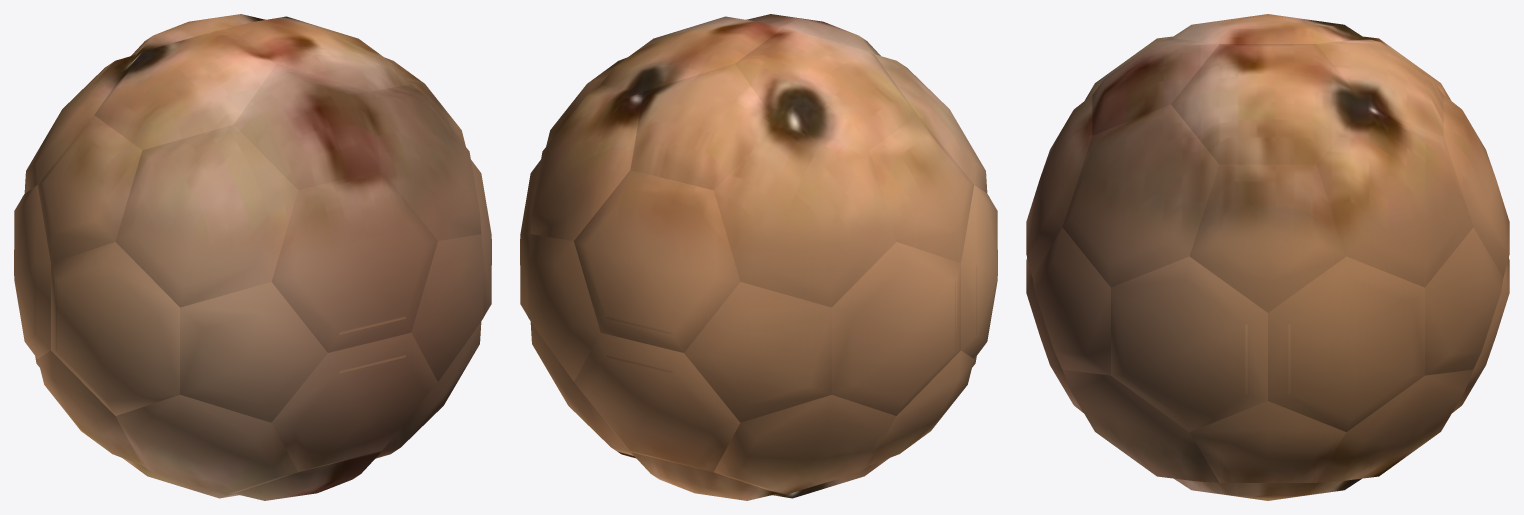
The model's file is hachimi_soccer_ball.fbx.
3 views of the same model, side by side, from view 1: azimuth 30°, elevation 25°; view 2: azimuth 150°, elevation 25°; view 3: azimuth 270°, elevation 25° (orthographic).
Visible parts, largest first — view 1: mesh_727; view 2: mesh_727; view 3: mesh_727.
Boxes of the visible parts, <box> form: mesh_727: <box>14,14,491,500</box>; mesh_727: <box>520,14,997,500</box>; mesh_727: <box>1026,14,1509,500</box>.
Bounding box in the file's own units: 15.69 × 15.69 × 15.69.
Materials: 1 (1 with a texture image).
